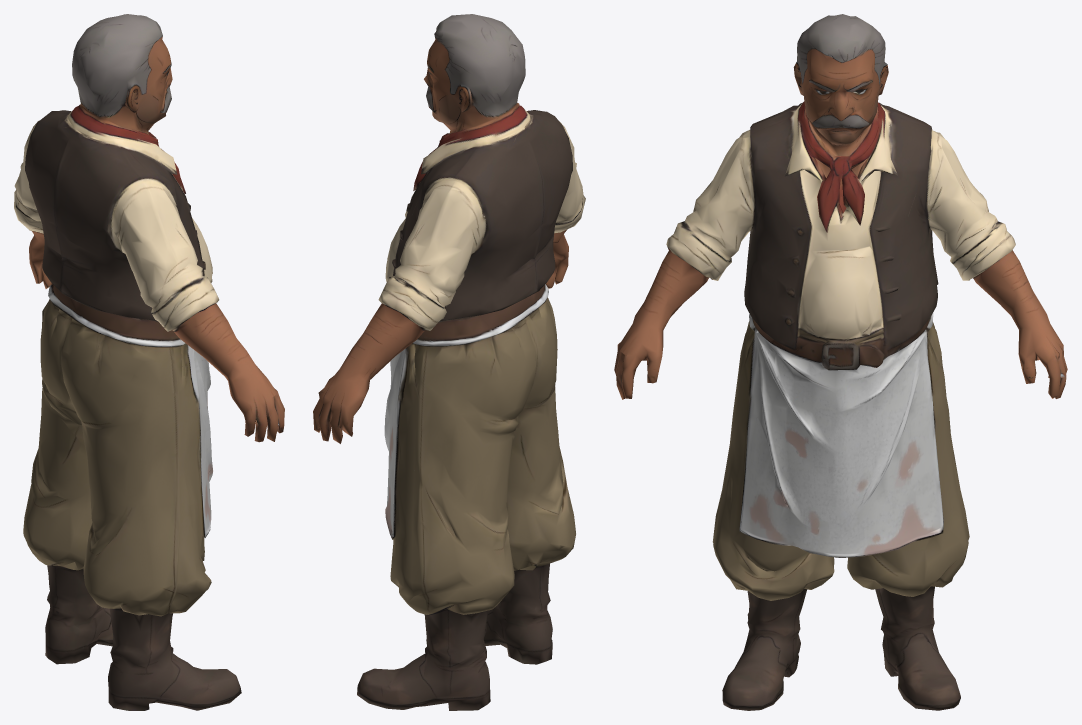
Rendered from 86e69778-ab4f-4f83-8002-3750f7e85327_model_url.glb.
The picture shows the model from 3 angles, left to right: view 1: azimuth 30°, elevation 25°; view 2: azimuth 150°, elevation 25°; view 3: azimuth 270°, elevation 25°; orthographic projection.
Parts seen in each view (by area): view 1: tripo_node_86e69778-ab4f-4f83-8002-3750f7e85327; view 2: tripo_node_86e69778-ab4f-4f83-8002-3750f7e85327; view 3: tripo_node_86e69778-ab4f-4f83-8002-3750f7e85327.
Part boxes in pixels (left/top/right/bottom): tripo_node_86e69778-ab4f-4f83-8002-3750f7e85327: left=14, top=14, right=284, bottom=710; tripo_node_86e69778-ab4f-4f83-8002-3750f7e85327: left=313, top=14, right=585, bottom=710; tripo_node_86e69778-ab4f-4f83-8002-3750f7e85327: left=614, top=14, right=1067, bottom=710.
Size of the model in its own units: 0.2433 by 1 by 0.6204.
1 material, 1 textured.
